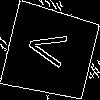V: (25, 27, 78, 72)
